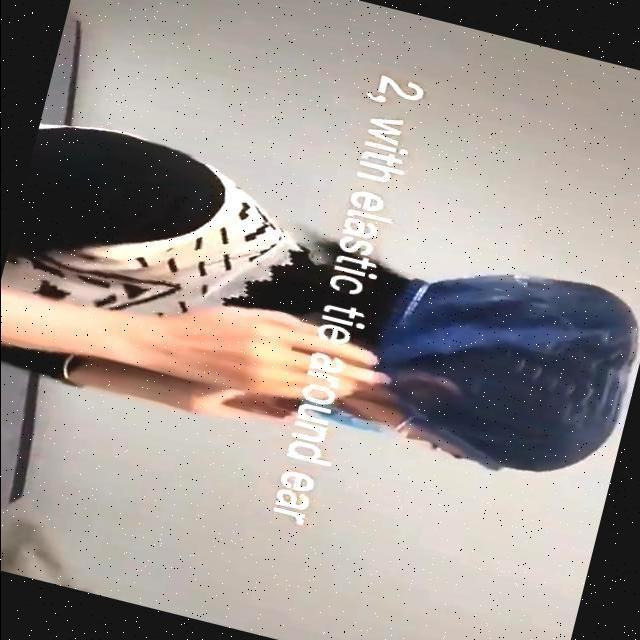gloves: (408, 289, 624, 470)
no_apron: (144, 314, 382, 414)
